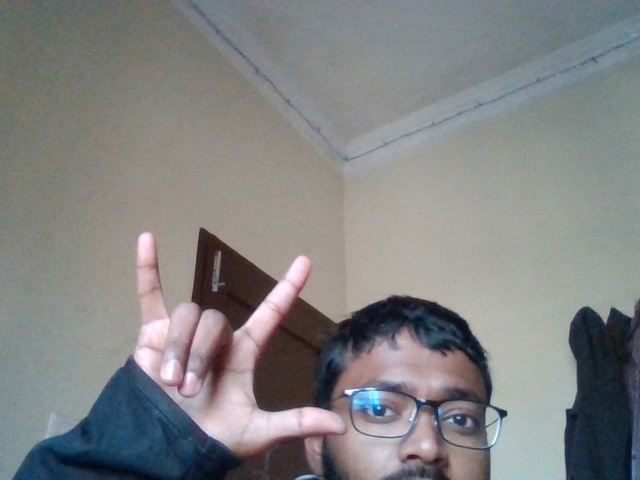iloveyou: (89, 214, 385, 456)
